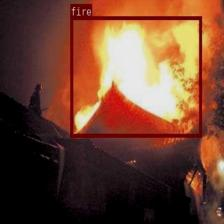fire: (70, 16, 201, 137)
